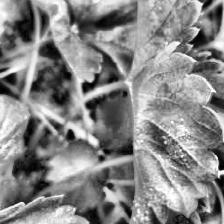Powdery Mildew Leaf: (127, 41, 224, 224)
